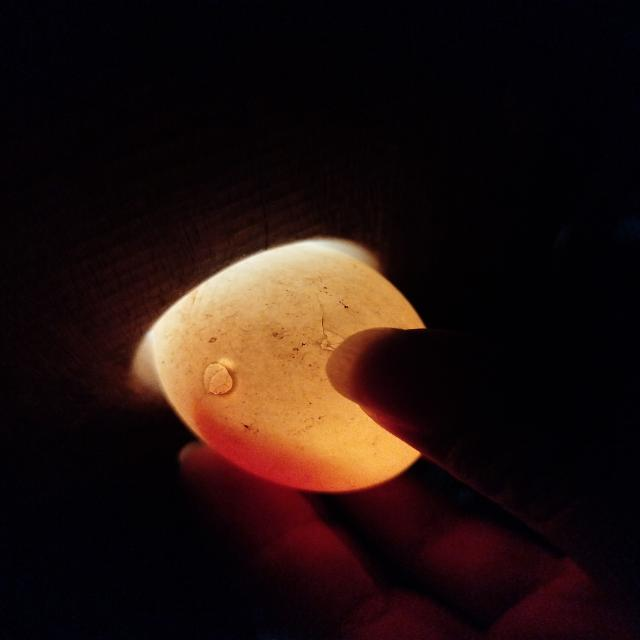Gema Quebrada: (196, 398, 358, 492)
Rachadura: (204, 363, 233, 394)
